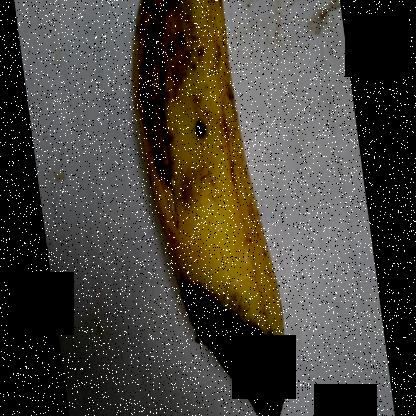rotten: (175, 264, 305, 414), (122, 0, 205, 224)
